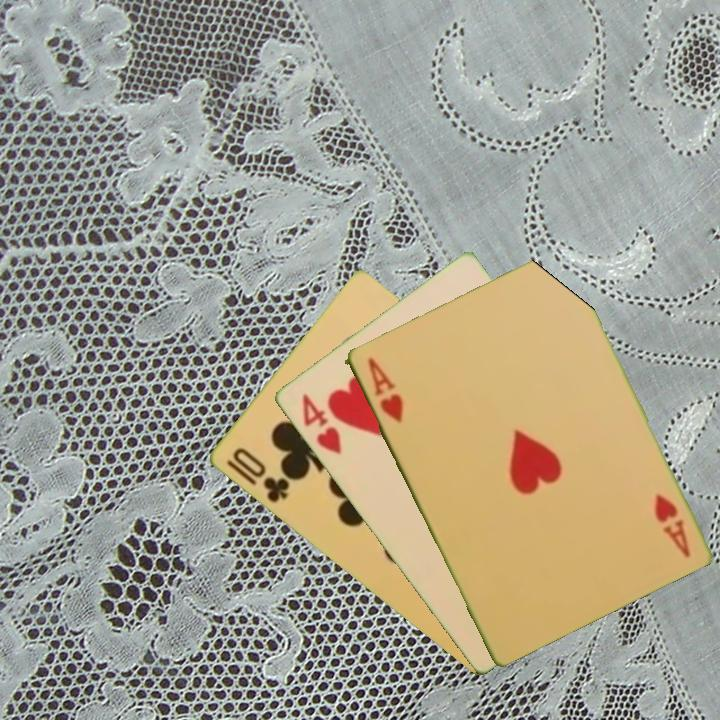10c: (228, 444, 292, 506)
4h: (298, 389, 344, 458)
Ah: (363, 353, 406, 426), (650, 489, 693, 560)
